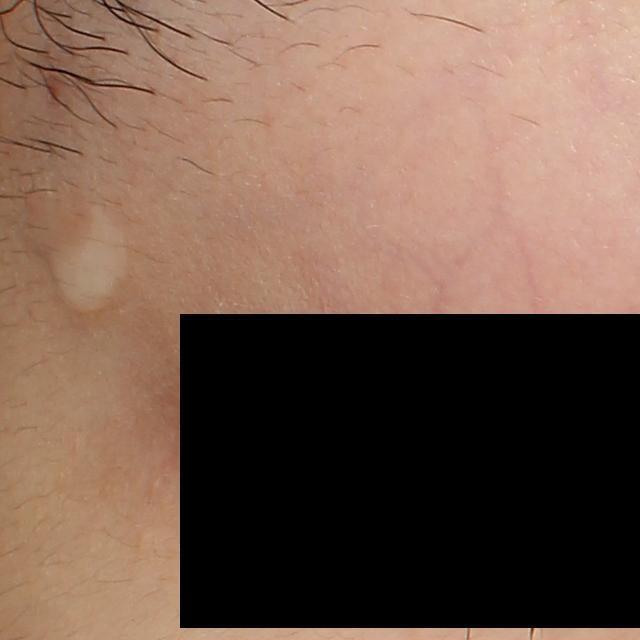other: (44, 213, 128, 318)
